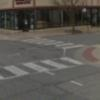crosswalks: (0, 55, 86, 81), (21, 36, 88, 50)
